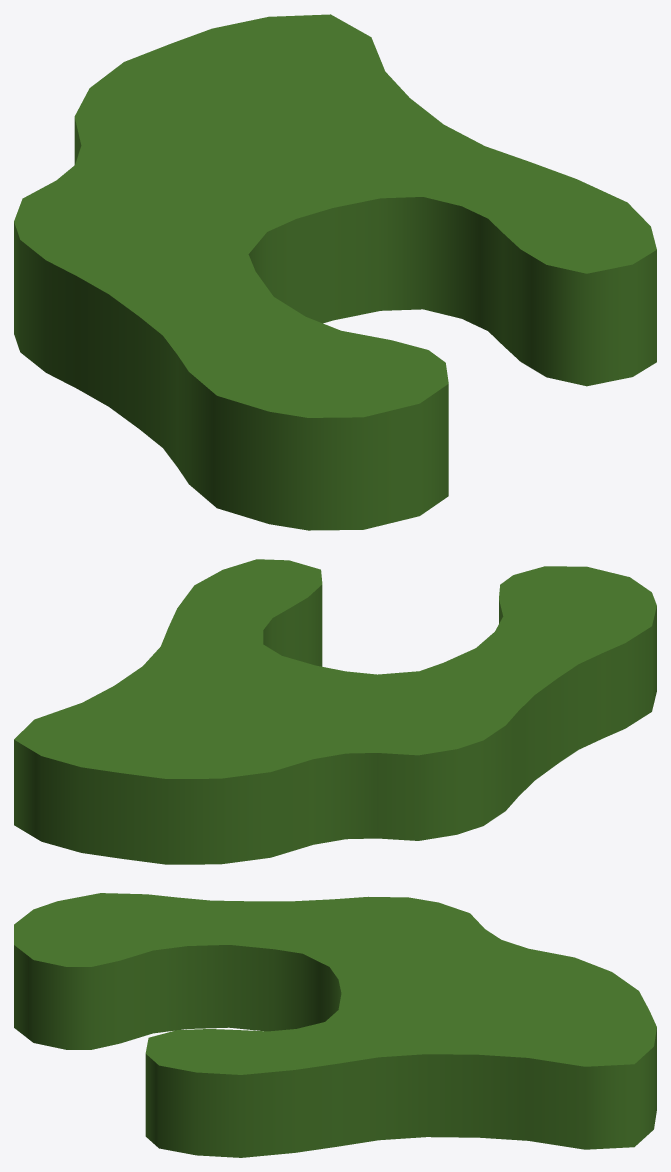
The model's file is Islands_04.fbx.
The picture shows the model from 3 angles, top to bottom: view 1: azimuth 30°, elevation 25°; view 2: azimuth 150°, elevation 25°; view 3: azimuth 270°, elevation 25°; orthographic projection. The views are drawn at different scales.
Visible parts, largest first — view 1: Island_04; view 2: Island_04; view 3: Island_04.
Part boxes in pixels (x1,y1,x2,y2): Island_04: (14, 14, 656, 530); Island_04: (14, 559, 656, 864); Island_04: (14, 893, 656, 1157).
Bounding box in the file's own units: 720 × 153 × 1075.
